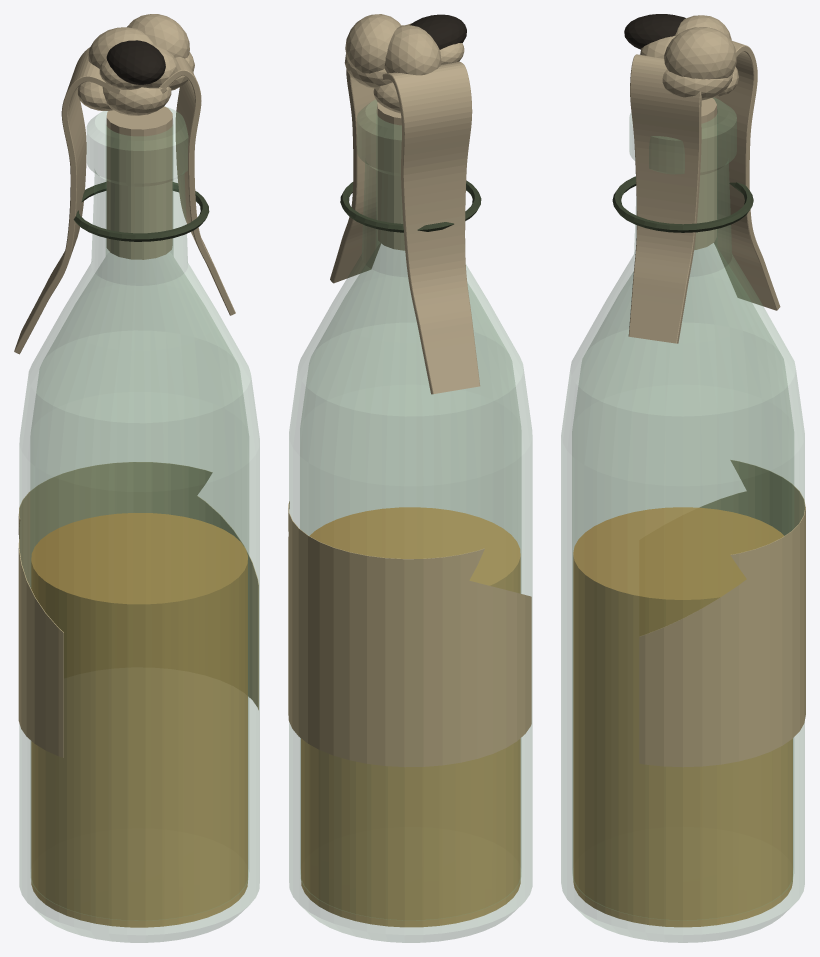
The model's file is coquetel_molotov.glb.
3 views of the same model, side by side, from view 1: azimuth 30°, elevation 25°; view 2: azimuth 150°, elevation 25°; view 3: azimuth 270°, elevation 25° (orthographic).
Parts seen in each view (by area): view 1: coquetel_molotov_vidro_verde, coquetel_molotov_combustivel, coquetel_molotov_pavio_pano_sujo, coquetel_molotov_papel_rotulo, coquetel_molotov_pavio_pano_queimado, coquetel_molotov_pavio_corda_cabo; view 2: coquetel_molotov_vidro_verde, coquetel_molotov_papel_rotulo, coquetel_molotov_combustivel, coquetel_molotov_pavio_pano_sujo, coquetel_molotov_pavio_corda_cabo, coquetel_molotov_pavio_pano_queimado; view 3: coquetel_molotov_vidro_verde, coquetel_molotov_combustivel, coquetel_molotov_papel_rotulo, coquetel_molotov_pavio_pano_sujo, coquetel_molotov_pavio_corda_cabo, coquetel_molotov_pavio_pano_queimado.
Boxes of the visible parts, bbox=[...] form: coquetel_molotov_vidro_verde: bbox=[19, 107, 259, 942]; coquetel_molotov_combustivel: bbox=[31, 513, 247, 927]; coquetel_molotov_pavio_pano_sujo: bbox=[14, 14, 235, 354]; coquetel_molotov_papel_rotulo: bbox=[18, 462, 258, 757]; coquetel_molotov_pavio_pano_queimado: bbox=[106, 40, 165, 84]; coquetel_molotov_pavio_corda_cabo: bbox=[73, 182, 209, 241]; coquetel_molotov_vidro_verde: bbox=[289, 99, 532, 942]; coquetel_molotov_papel_rotulo: bbox=[288, 501, 531, 767]; coquetel_molotov_combustivel: bbox=[301, 507, 520, 927]; coquetel_molotov_pavio_pano_sujo: bbox=[330, 14, 480, 394]; coquetel_molotov_pavio_corda_cabo: bbox=[340, 180, 481, 232]; coquetel_molotov_pavio_pano_queimado: bbox=[410, 14, 466, 49]; coquetel_molotov_vidro_verde: bbox=[561, 98, 804, 942]; coquetel_molotov_combustivel: bbox=[573, 507, 792, 927]; coquetel_molotov_papel_rotulo: bbox=[639, 460, 805, 767]; coquetel_molotov_pavio_pano_sujo: bbox=[628, 15, 780, 343]; coquetel_molotov_pavio_corda_cabo: bbox=[612, 176, 753, 232]; coquetel_molotov_pavio_pano_queimado: bbox=[624, 14, 685, 49].
Size of the model in its own units: 0.0674 by 0.2665 by 0.0672.
